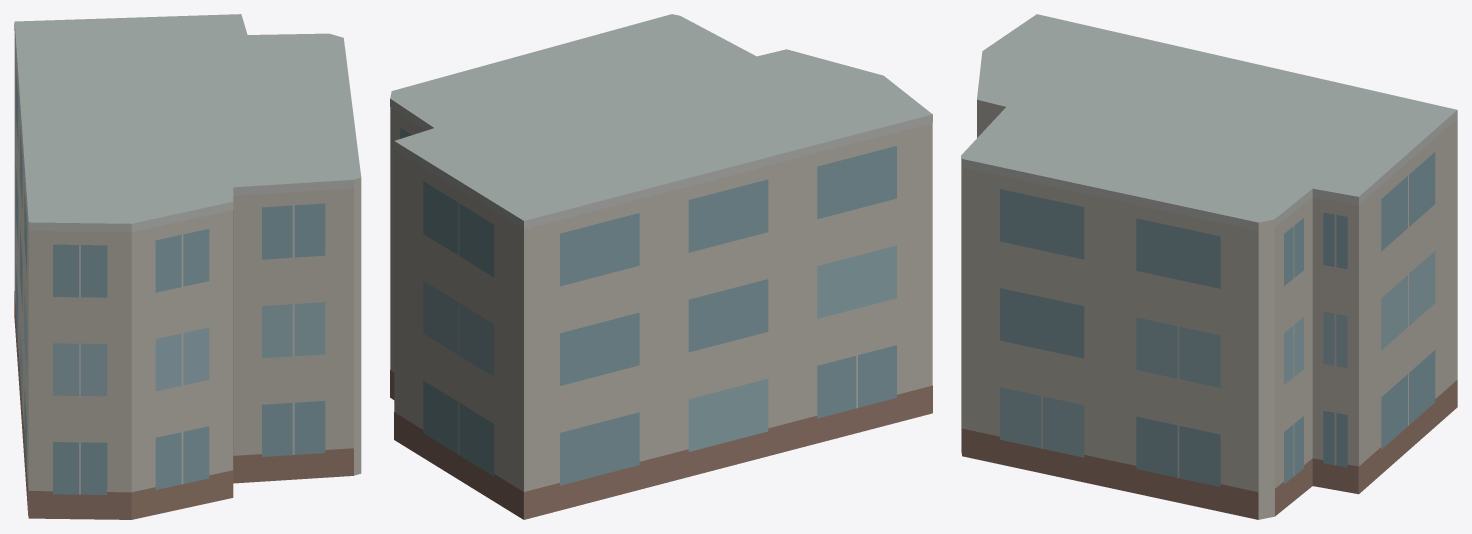
Rendered from survey-upis-32995566.glb.
3 renders of one model, left to right at view 1: azimuth 30°, elevation 25°; view 2: azimuth 150°, elevation 25°; view 3: azimuth 270°, elevation 25°, orthographic.
Parts seen in each view (by area): view 1: survey-upis-32995566.tmp; view 2: survey-upis-32995566.tmp; view 3: survey-upis-32995566.tmp.
Boxes of the visible parts, x1,y1,x2,y2 form: survey-upis-32995566.tmp: (14,14,361,519); survey-upis-32995566.tmp: (390,14,932,519); survey-upis-32995566.tmp: (961,14,1457,519).
Size of the model in its own units: 12.95 by 8.6 by 13.02.
